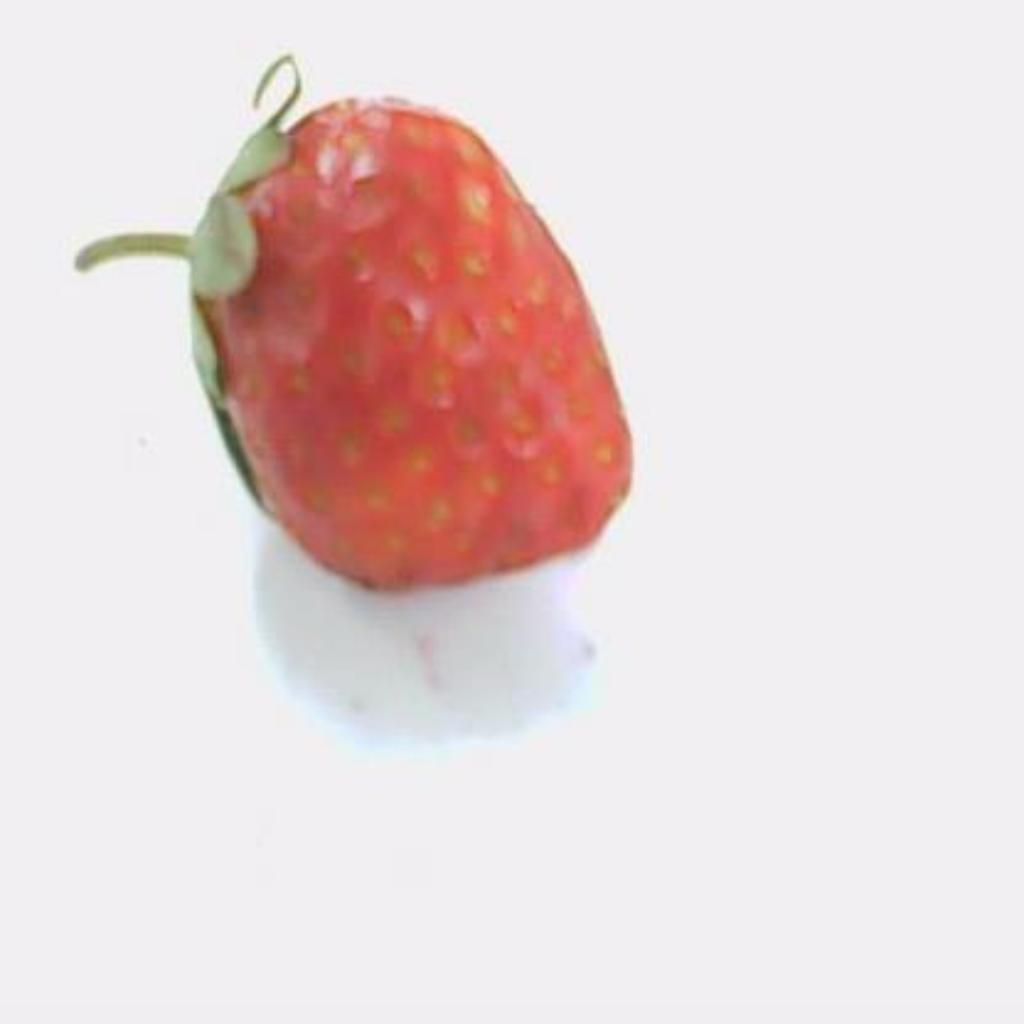strawberry: (78, 100, 628, 588)
